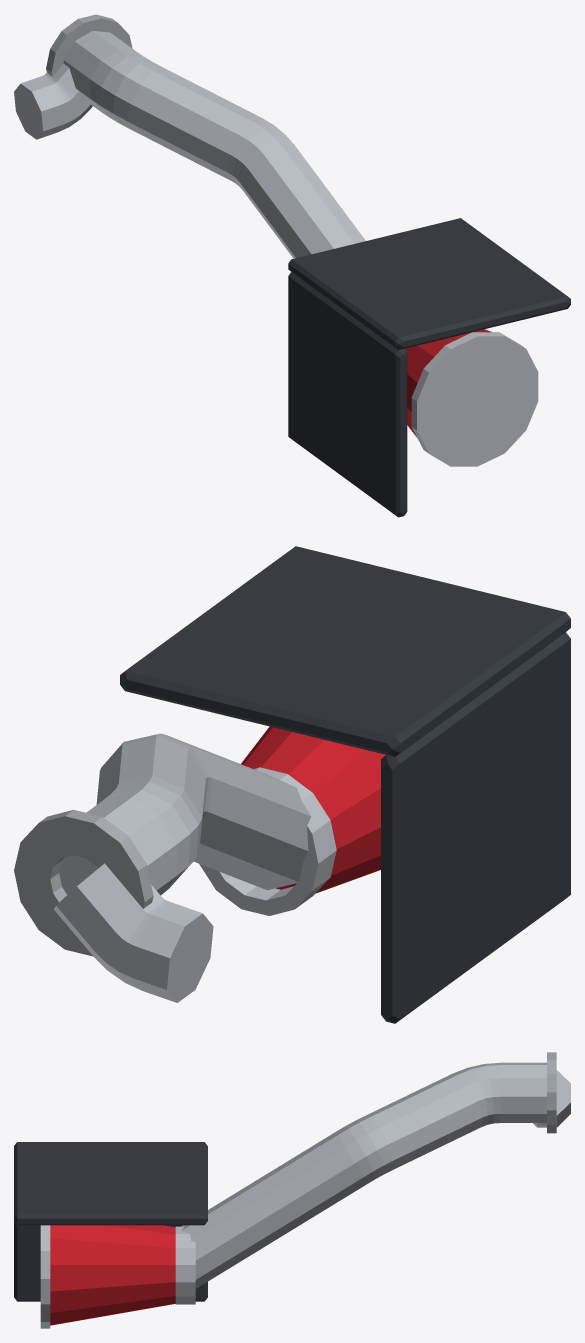
The model's file is brute_500.glb.
3 views of the same model, one above another, from view 1: azimuth 30°, elevation 25°; view 2: azimuth 150°, elevation 25°; view 3: azimuth 270°, elevation 25° (orthographic). The views are drawn at different scales.
Visible parts, largest first — view 1: model; view 2: model; view 3: model.
Boxes of the visible parts, bbox=[...] form: model: bbox=[14, 14, 570, 517]; model: bbox=[14, 546, 570, 1023]; model: bbox=[14, 1052, 570, 1328].
Size of the model in its own units: 0.3029 by 0.33 by 0.6896.
2 materials, 1 textured.
